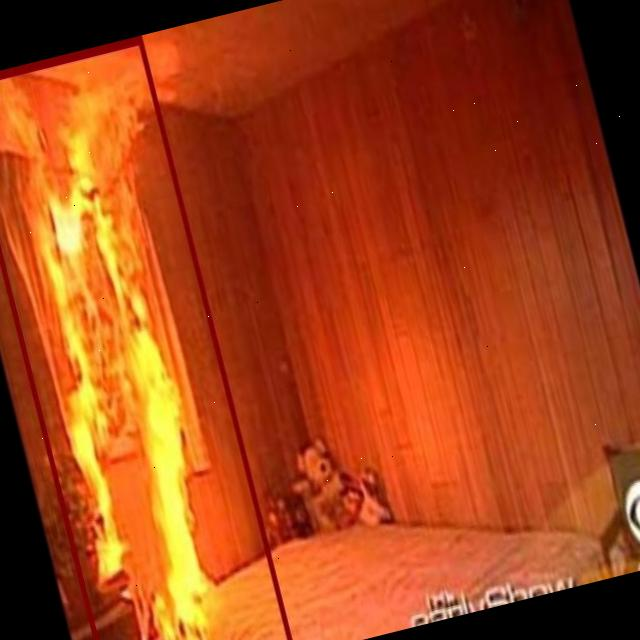fire: (0, 35, 292, 640)
